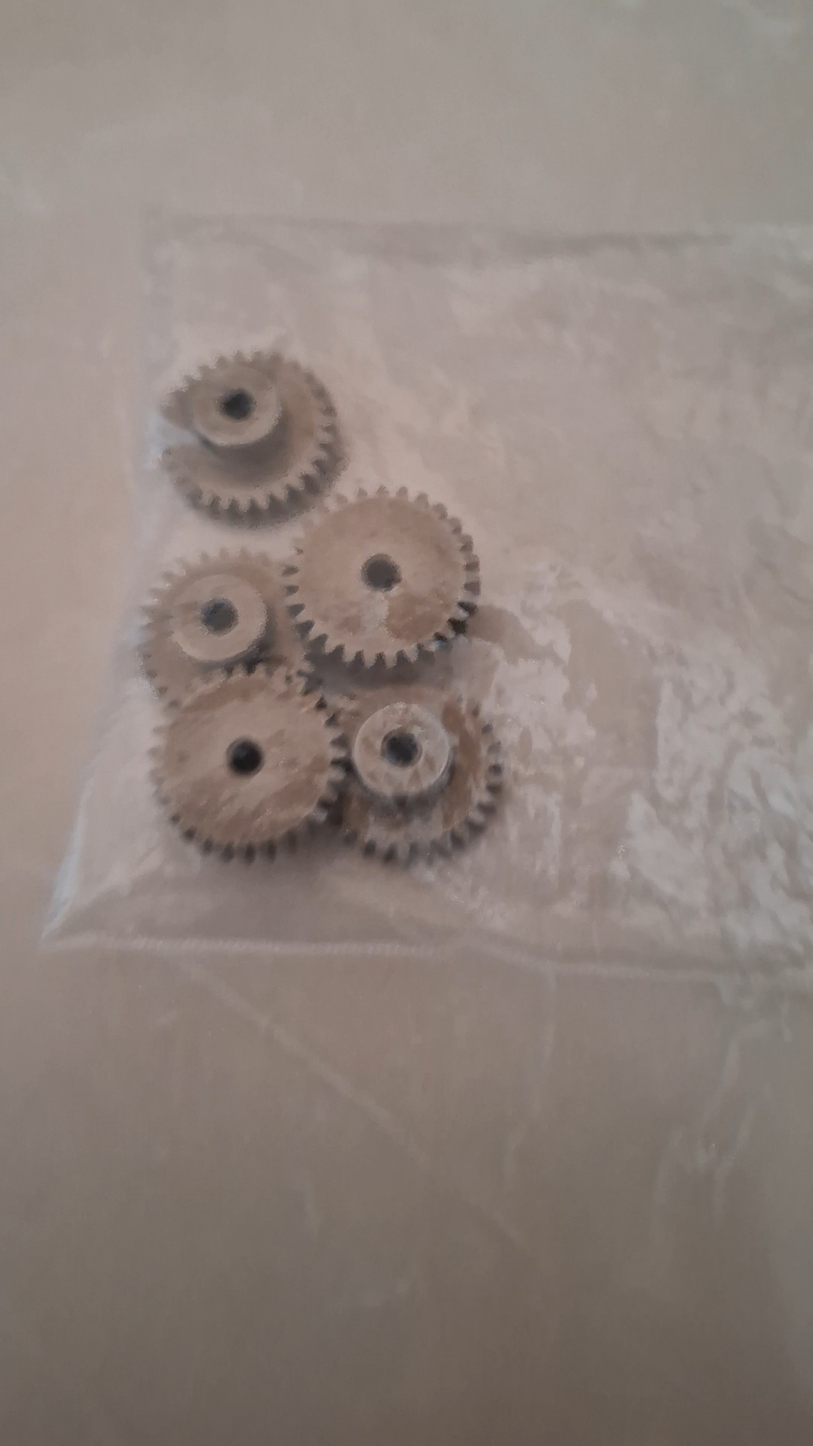spur gear: (152, 667, 346, 857), (284, 488, 479, 667), (163, 352, 338, 521), (340, 687, 502, 863), (140, 550, 303, 704)
